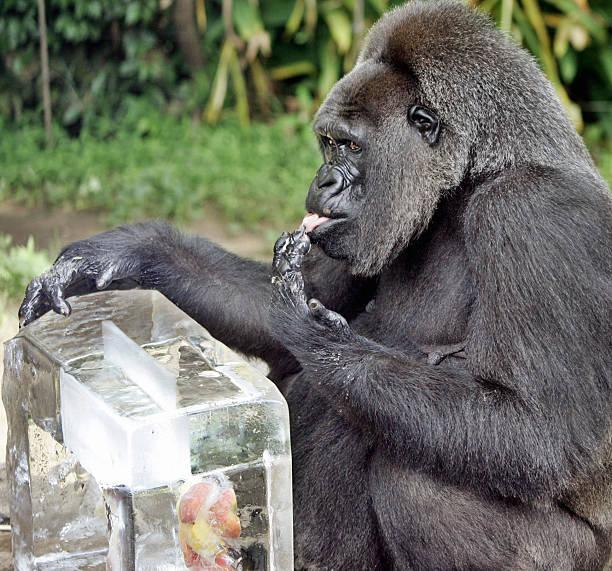gorille_Autres: (236, 0, 612, 563)
